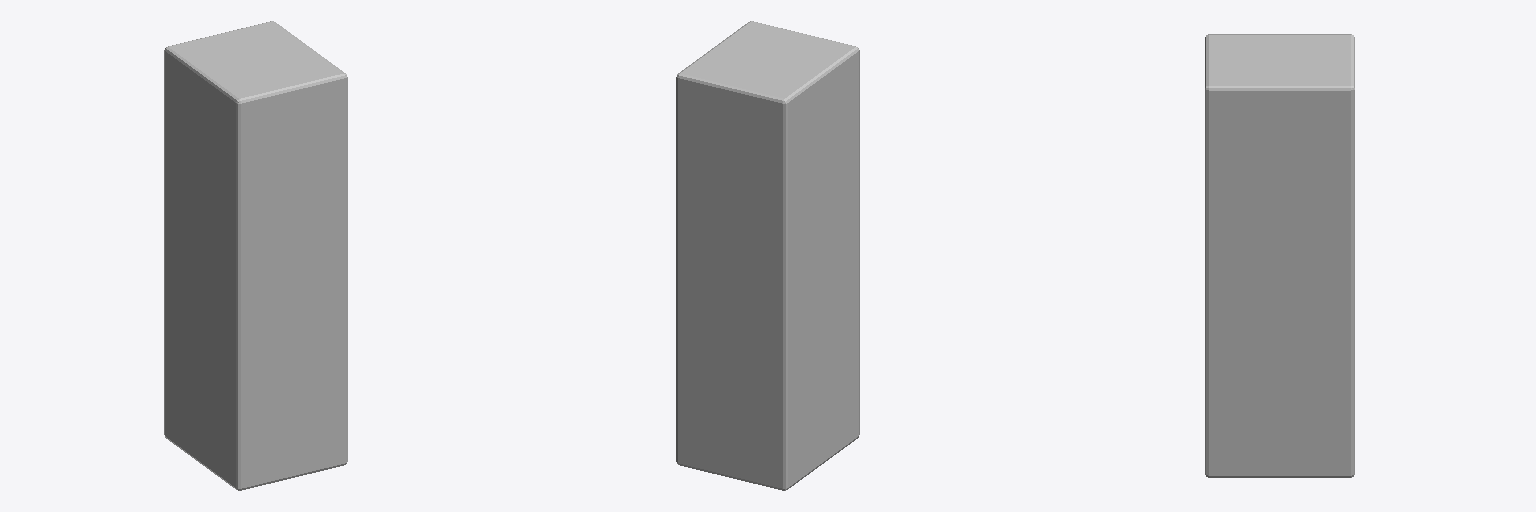
Rendered from concrete-beam.obj.
3 renders of one model, left to right at view 1: azimuth 30°, elevation 25°; view 2: azimuth 150°, elevation 25°; view 3: azimuth 270°, elevation 25°, orthographic.
Parts seen in each view (by area): view 1: Concrete_block; view 2: Concrete_block; view 3: Concrete_block.
Boxes of the visible parts, x1=… form: Concrete_block: x1=164, y1=21, x2=347, y2=490; Concrete_block: x1=676, y1=21, x2=859, y2=490; Concrete_block: x1=1205, y1=34, x2=1354, y2=477.
Bounding box in the file's own units: 0.2253 × 0.7602 × 0.264.